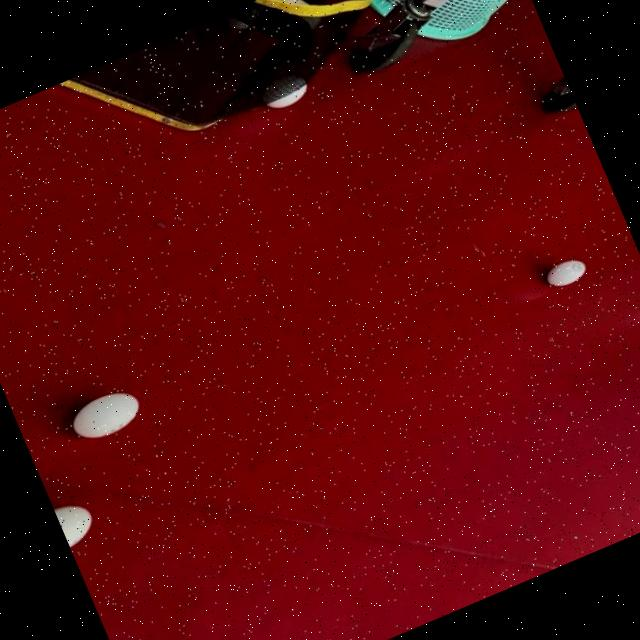ping-pong-ball: (62, 381, 148, 448), (252, 67, 316, 116), (52, 494, 101, 549), (540, 252, 592, 292)
